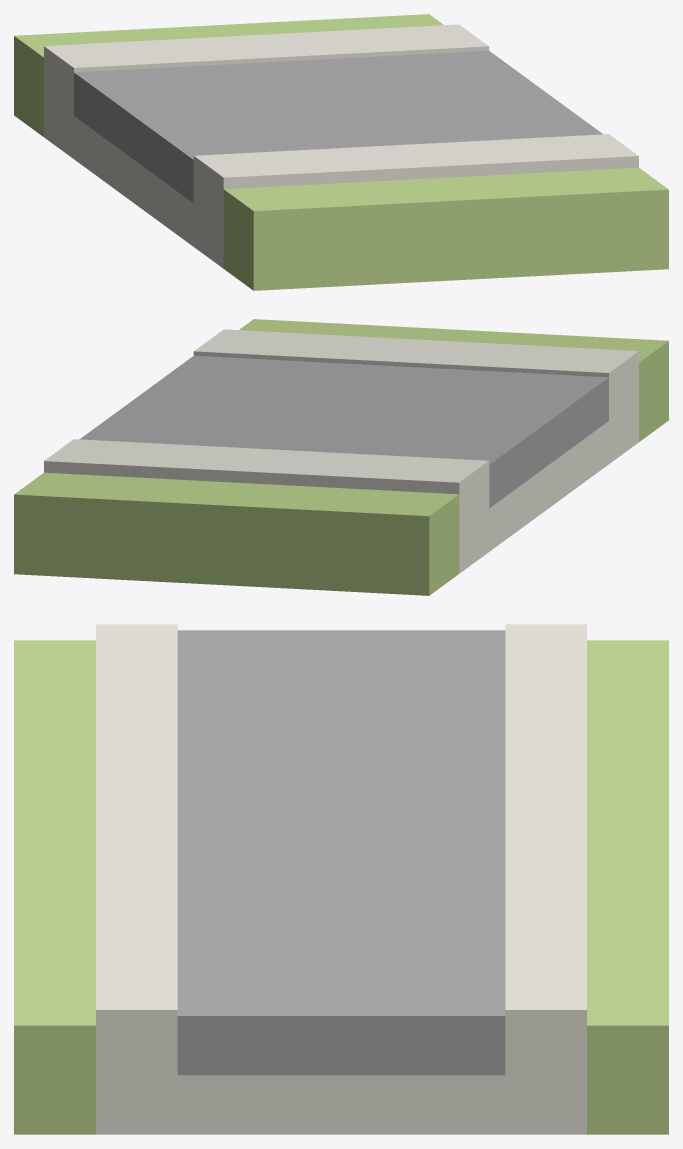
File: road_tile_183.glb
3 views of the same model, one above another, from view 1: azimuth 30°, elevation 25°; view 2: azimuth 150°, elevation 25°; view 3: azimuth 270°, elevation 25° (orthographic). The views are drawn at different scales.
Visible parts, largest first — view 1: roadTile_183; view 2: roadTile_183; view 3: roadTile_183.
Boxes of the visible parts, <box> form: roadTile_183: <box>14,14,668,290</box>; roadTile_183: <box>14,319,668,595</box>; roadTile_183: <box>14,624,668,1134</box>.
Bounding box in the file's own units: 3 × 1.18 × 3.
